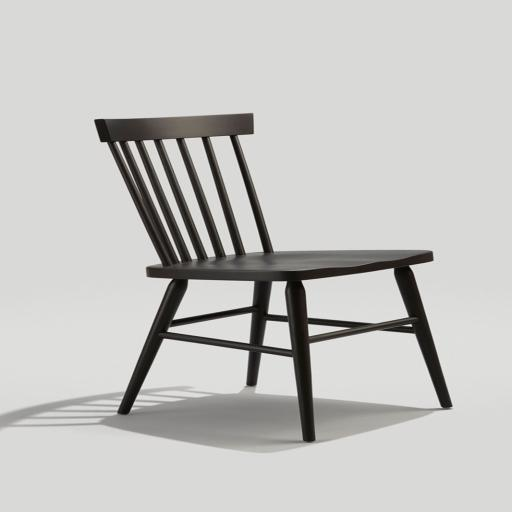chair: (94, 114, 454, 442)
